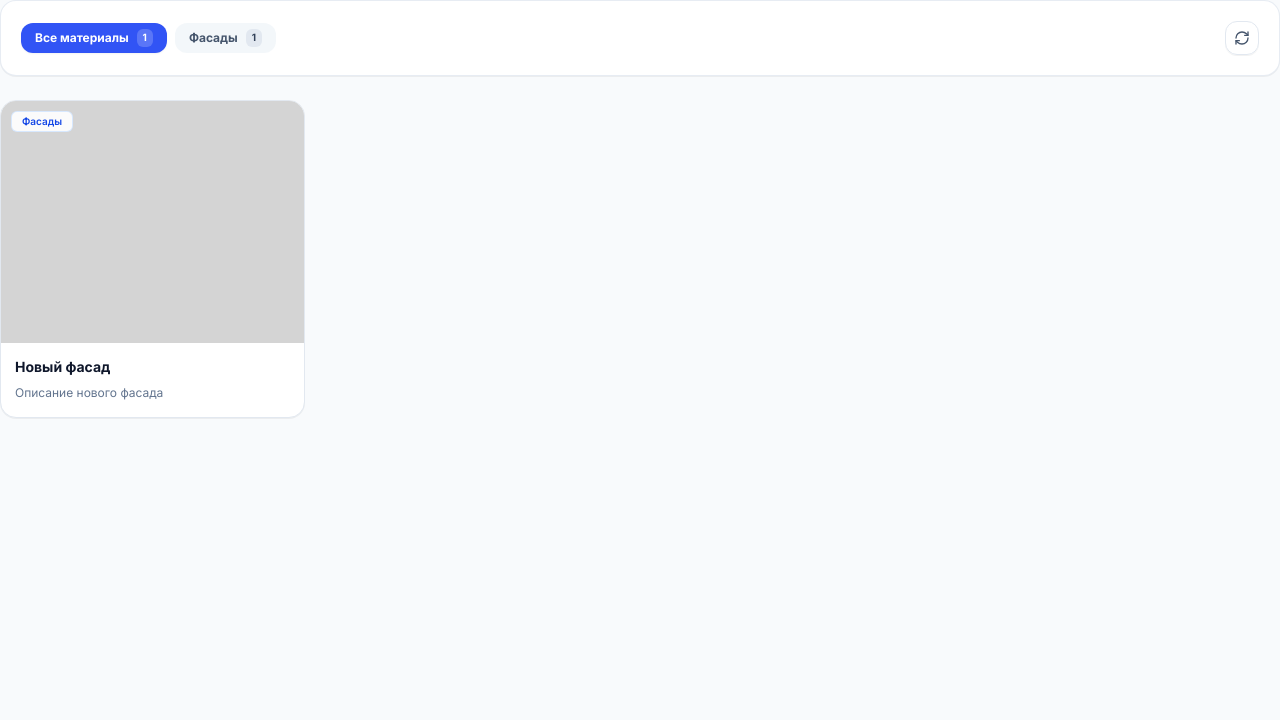
Test: shows active materials and keeps archived images out of cards and the viewer
The image size is (1280, 720).
Click the heading "Новый фасад": (63, 367) [15,358,110,375]
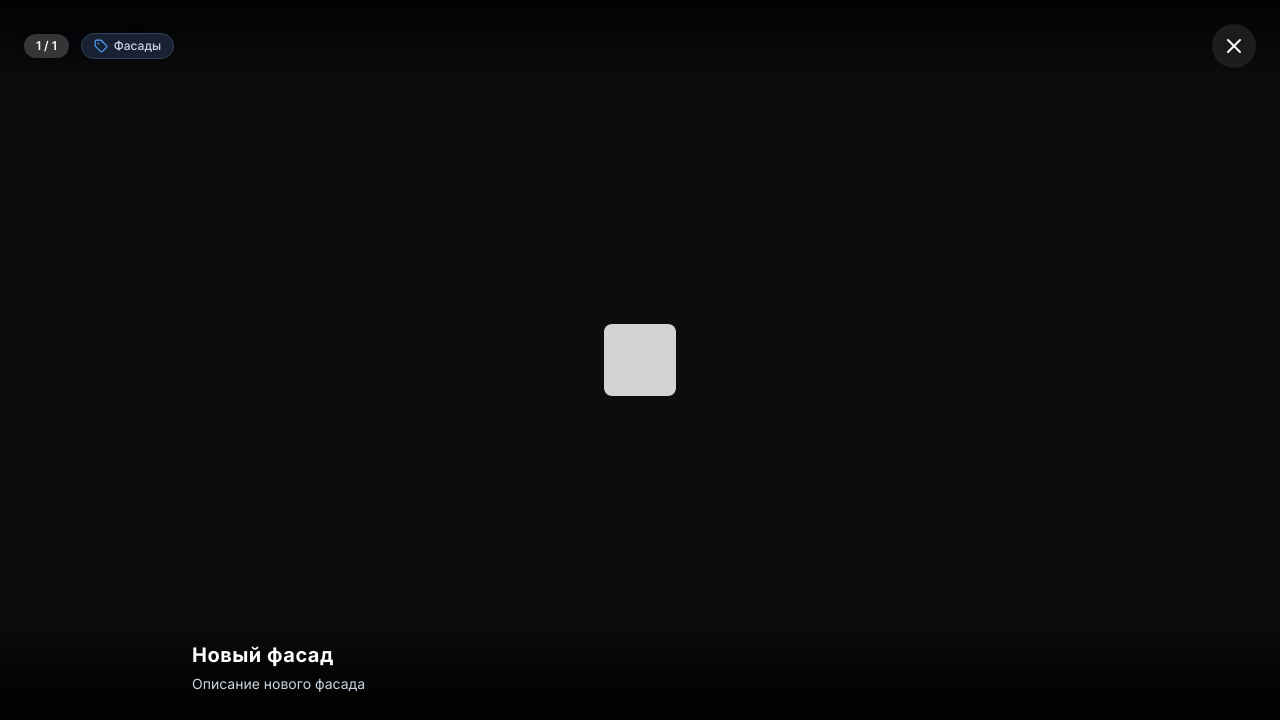
expect the text "1 / 1" is shown: met, box [24,34,69,58]
